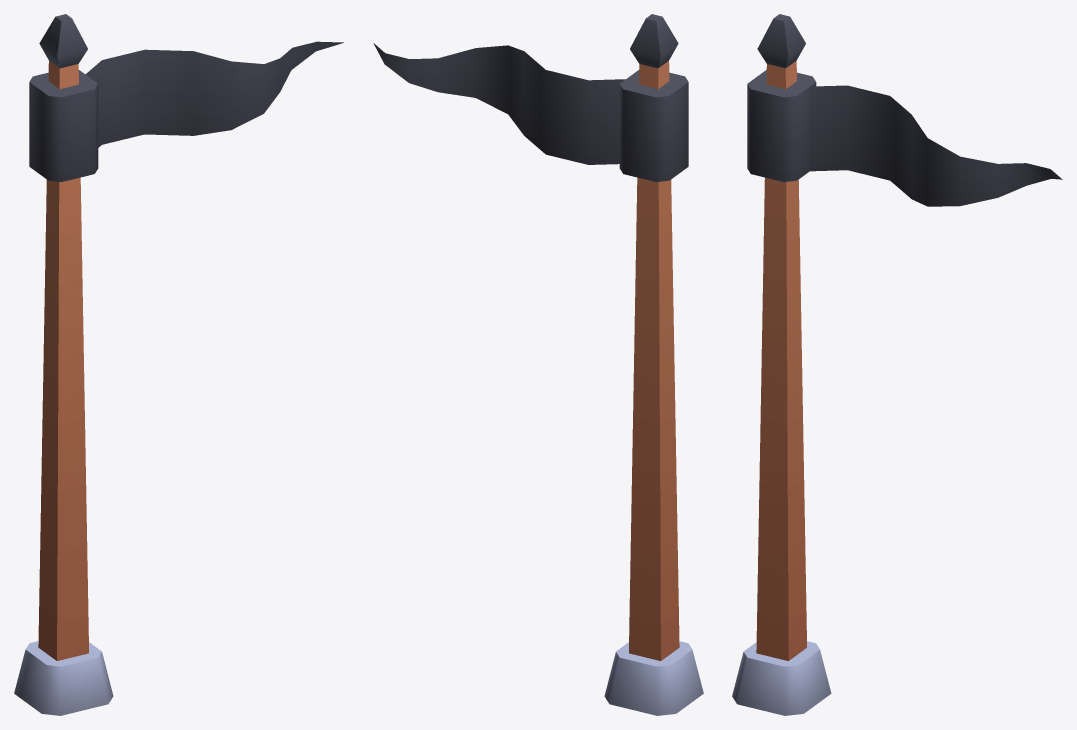
The model's file is flag-pirate-high-pennant.gltf.
The picture shows the model from 3 angles, left to right: view 1: azimuth 30°, elevation 25°; view 2: azimuth 150°, elevation 25°; view 3: azimuth 330°, elevation 25°; orthographic projection.
Parts seen in each view (by area): view 1: flag-pirate-high-pennant; view 2: flag-pirate-high-pennant; view 3: flag-pirate-high-pennant.
Part boxes in pixels (bbox=[...]): flag-pirate-high-pennant: bbox=[14, 14, 343, 715]; flag-pirate-high-pennant: bbox=[373, 14, 703, 715]; flag-pirate-high-pennant: bbox=[732, 14, 1062, 715].
Size of the model in its own units: 1.76 by 3.6 by 0.3989.
1 material, 1 textured.
